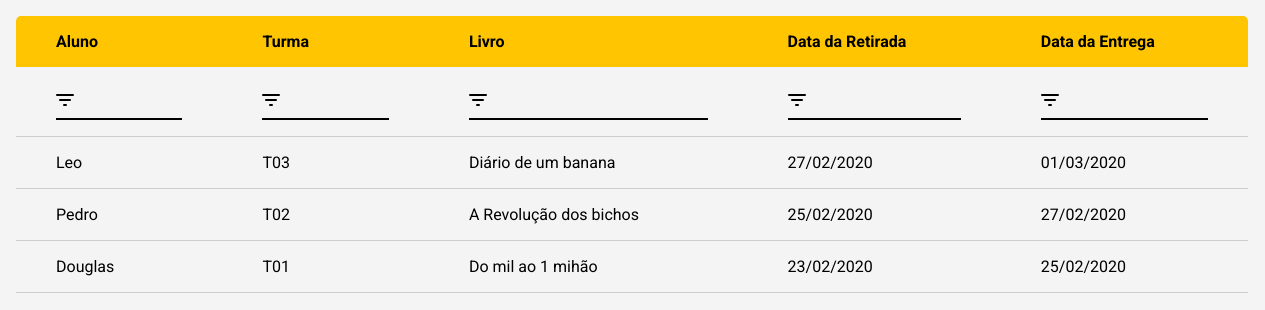
Scenario: <HistoryLoans /> › should order the lines for delivery dates to be in calendar order when the button is clicked and to be in reverse order if it clicked again
Expected: the row with test id "loanLine" shows "01/03/2020", [1041,153,1126,172]
Step 1. Click the element with test id "sortDeliveryDate" → (1124, 102), box [1041,83,1208,120]
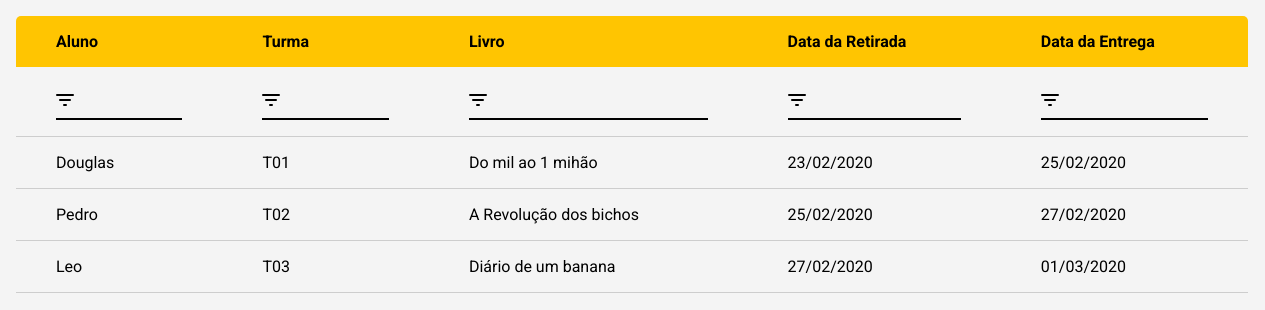
Result: the row with test id "loanLine" shows "25/02/2020" at [1041,153,1126,172]
Step 2. Click the element with test id "sortDeliveryDate" → (1124, 102), box [1041,83,1208,120]
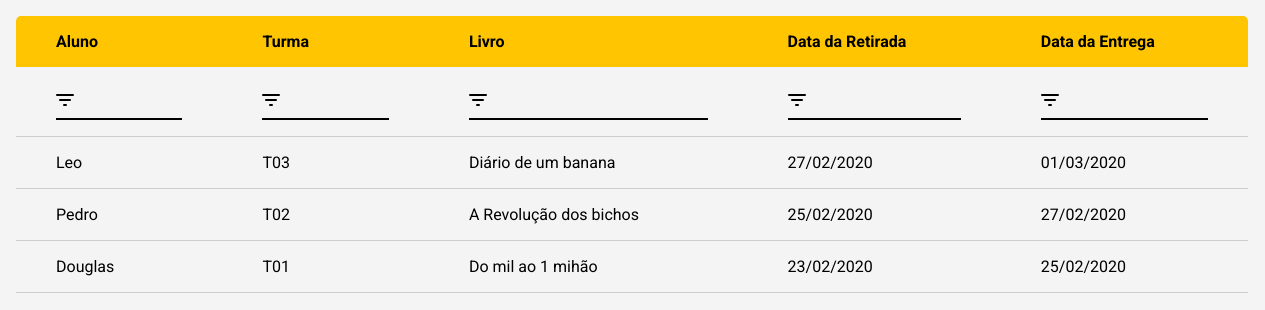
Result: the row with test id "loanLine" shows "01/03/2020" at [1041,153,1126,172]
